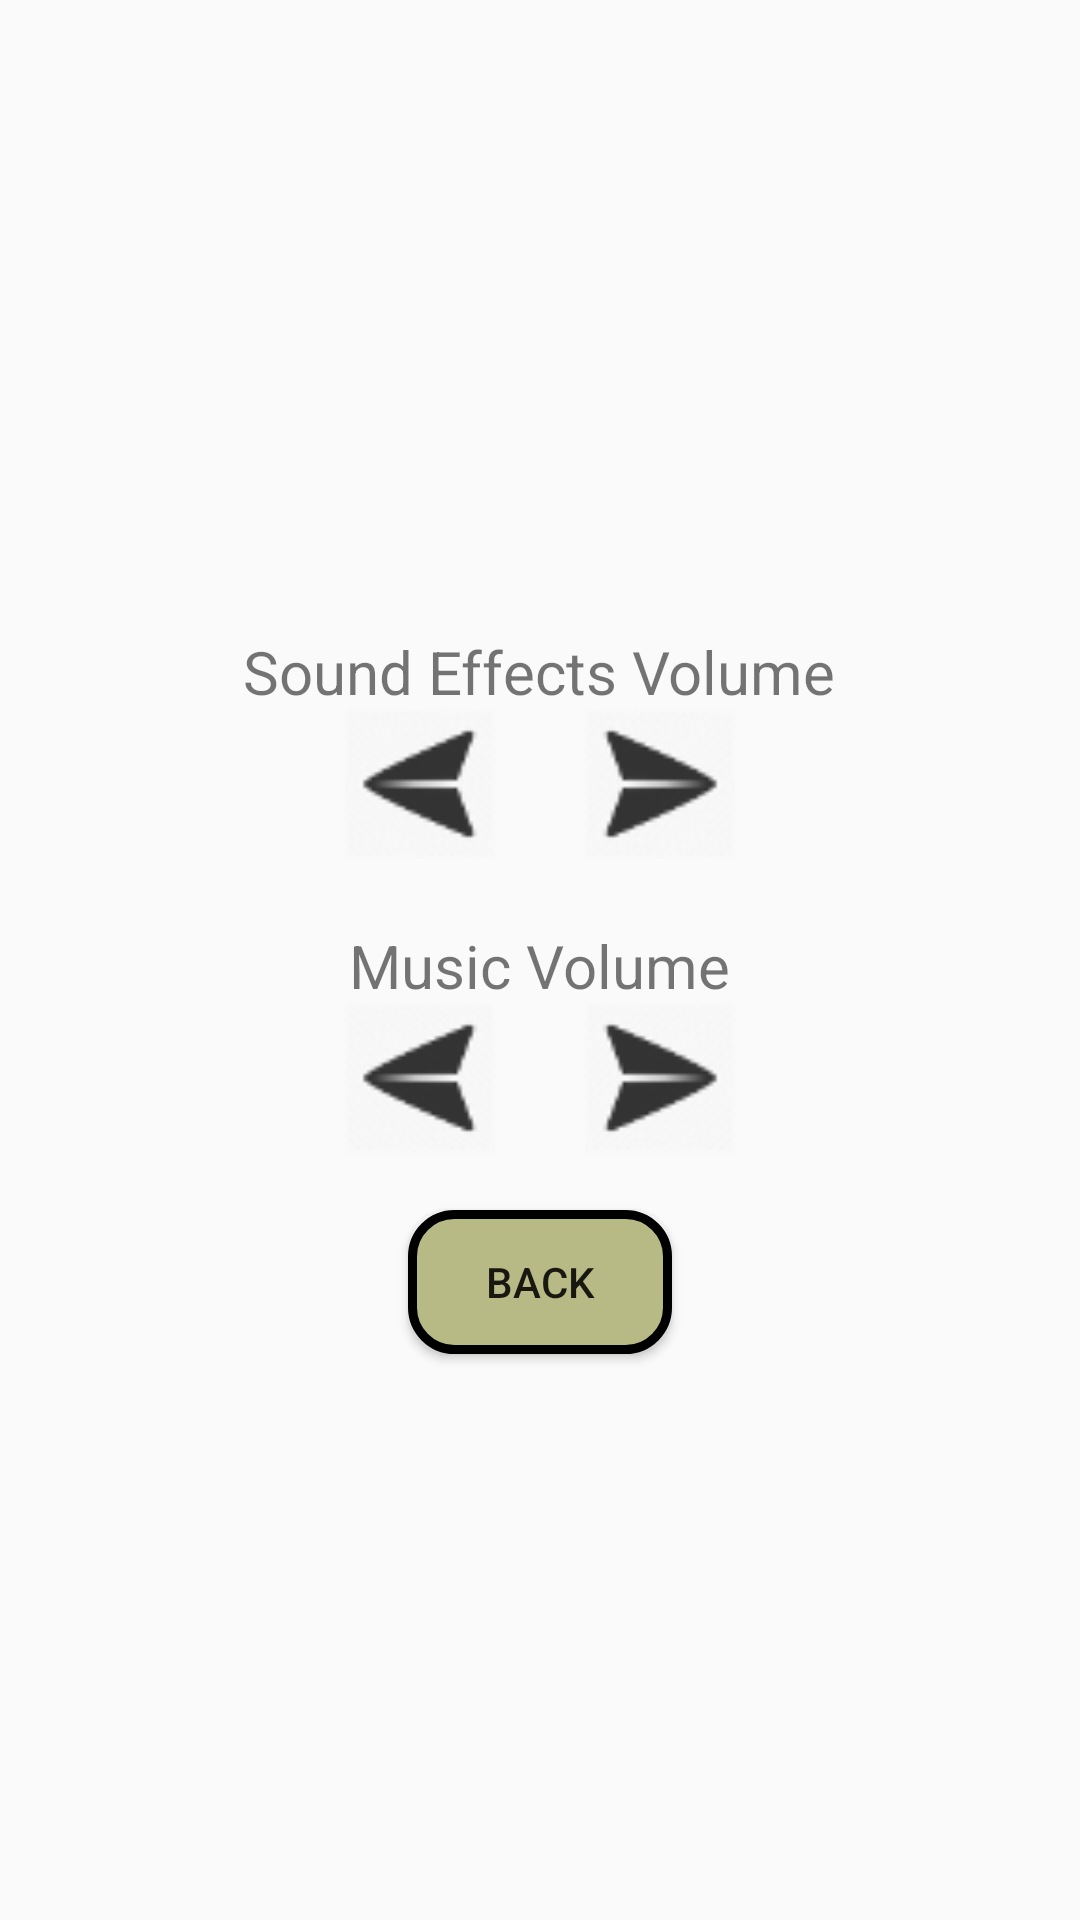

Where icons sit on this 1080px x 1920px app screen, as (x1, y1, x2, y2):
left arrow: (362, 730, 476, 838), (362, 1024, 476, 1132)
right arrow: (604, 730, 717, 838), (604, 1024, 717, 1132)
